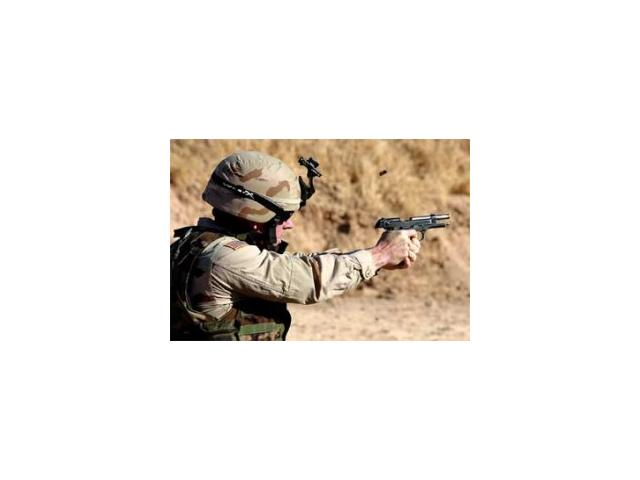pistol: (371, 212, 452, 273)
